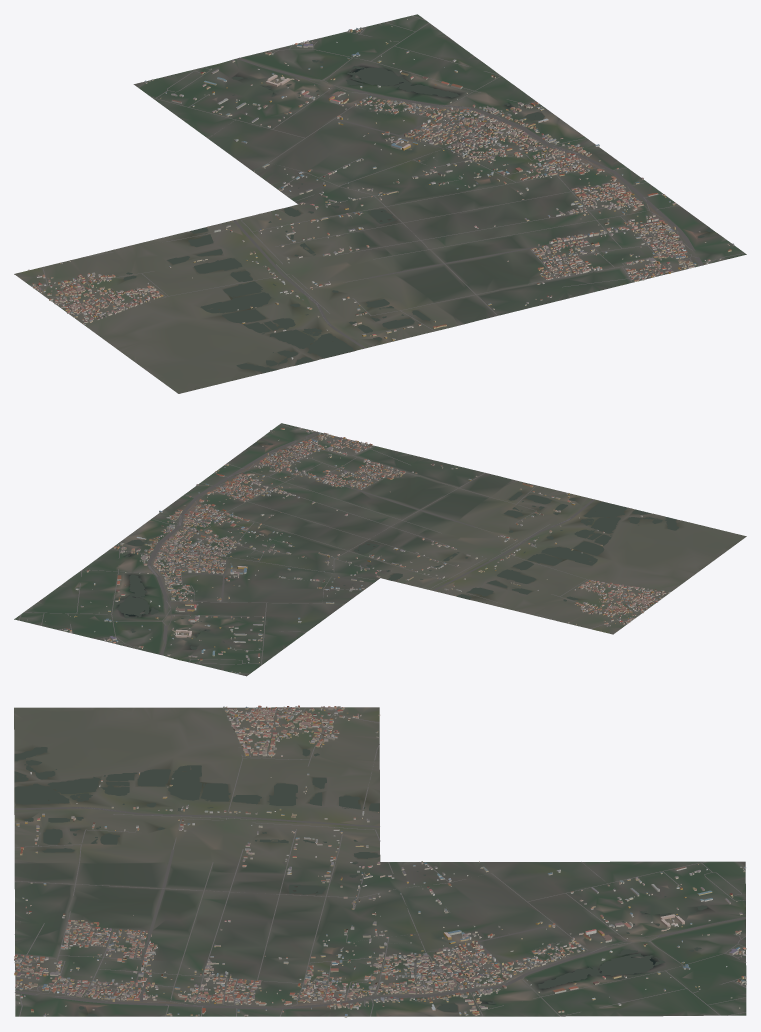
3 renders of one model, top to bottom at view 1: azimuth 30°, elevation 25°; view 2: azimuth 150°, elevation 25°; view 3: azimuth 270°, elevation 25°, orthographic. The views are drawn at different scales.
Parts seen in each view (by area): view 1: ground, buildings, roads, water; view 2: ground, buildings, roads, water; view 3: ground, buildings, water, roads.
Part boxes in pixels (left/top/right/bottom): ground: left=14, top=14, right=746, bottom=393; buildings: left=28, top=18, right=734, bottom=359; roads: left=31, top=15, right=744, bottom=348; water: left=123, top=58, right=714, bottom=372; ground: left=14, top=423, right=746, bottom=676; buildings: left=27, top=428, right=670, bottom=673; roads: left=19, top=424, right=668, bottom=665; water: left=117, top=442, right=679, bottom=649; ground: left=14, top=707, right=746, bottom=1016; buildings: left=14, top=705, right=746, bottom=1017; water: left=14, top=747, right=707, bottom=1016; roads: left=14, top=707, right=746, bottom=1016.
Bounding box in the file's own units: 2817 × 19.43 × 2811.
